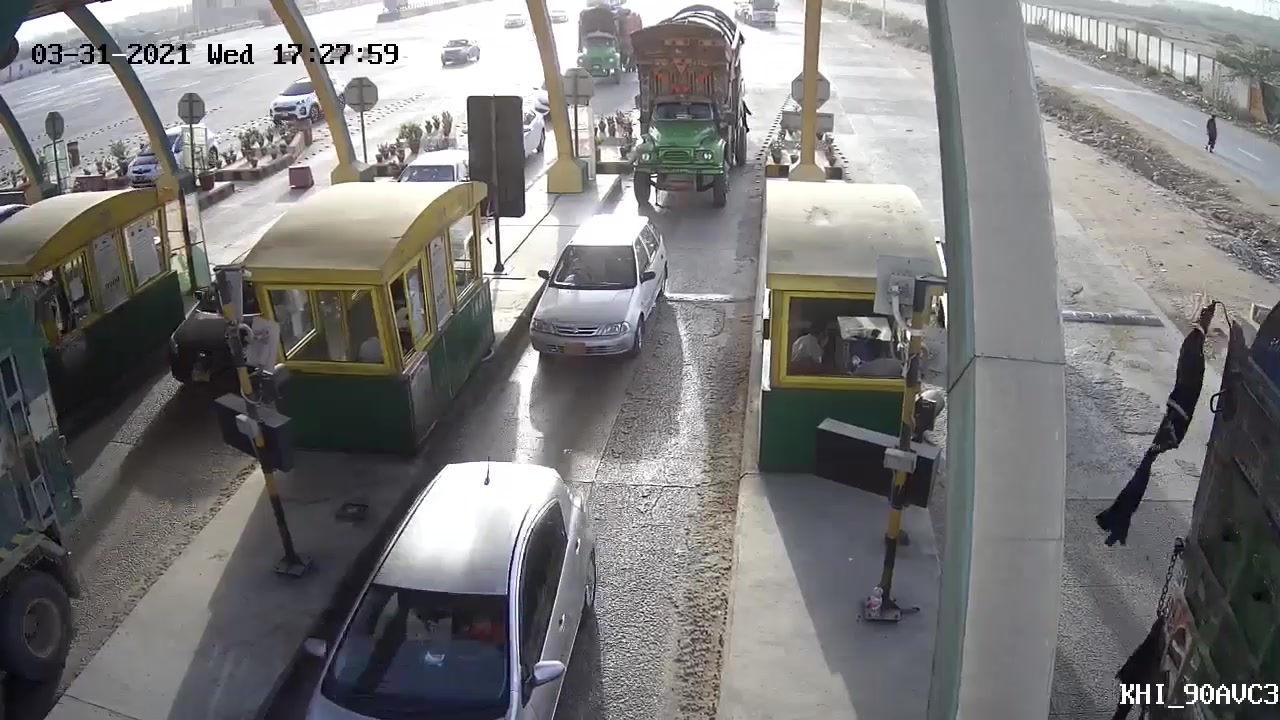F1: (522, 204, 669, 374)
F5: (626, 4, 750, 206)
